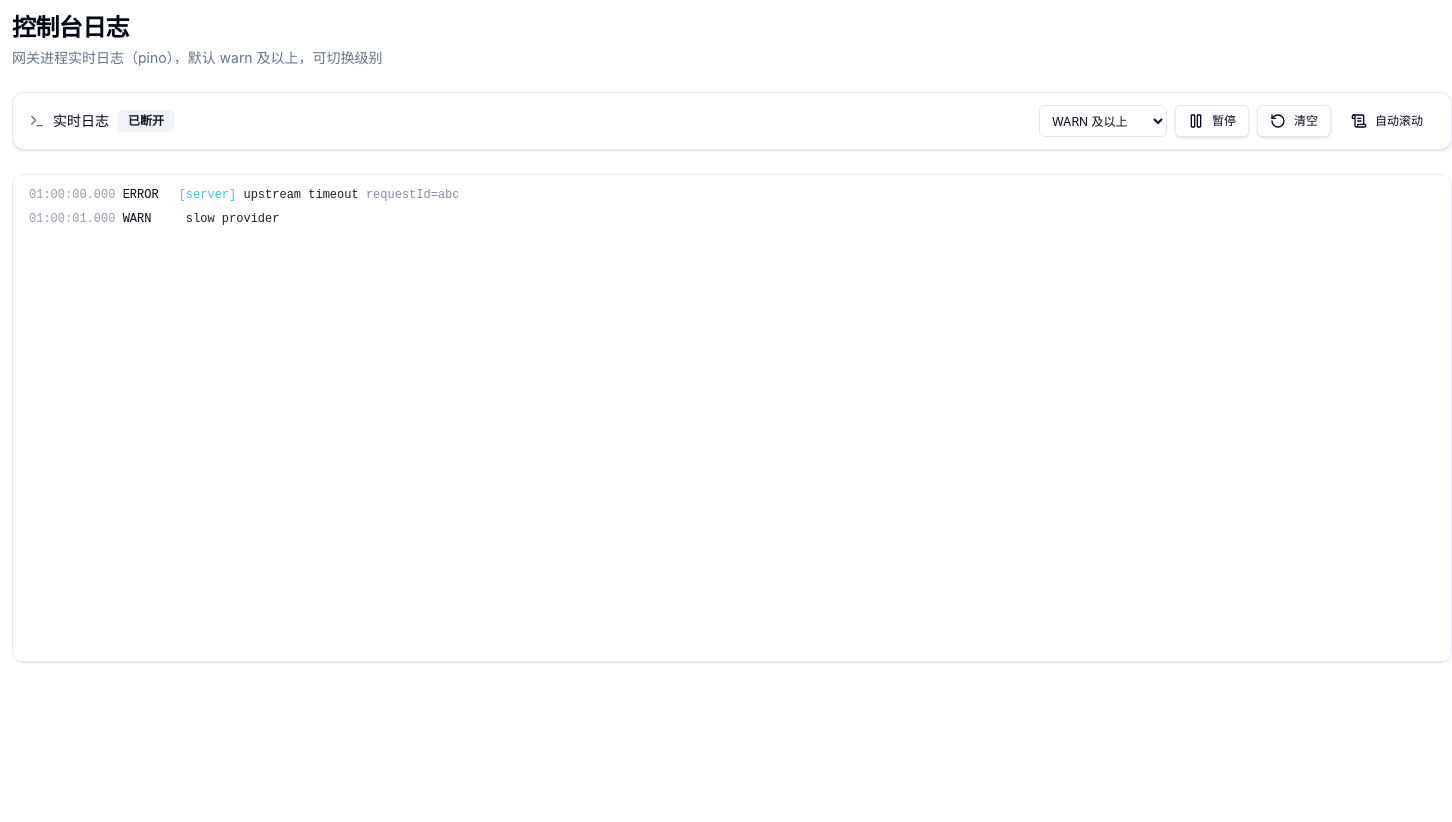
ConsoleLogsPage › pauses incoming entries when 暂停 clicked
Expected: the text "upstream timeout" is shown, [244,188,359,202]
Click the button "暂停" at (1212, 121), box [1175,105,1249,137]
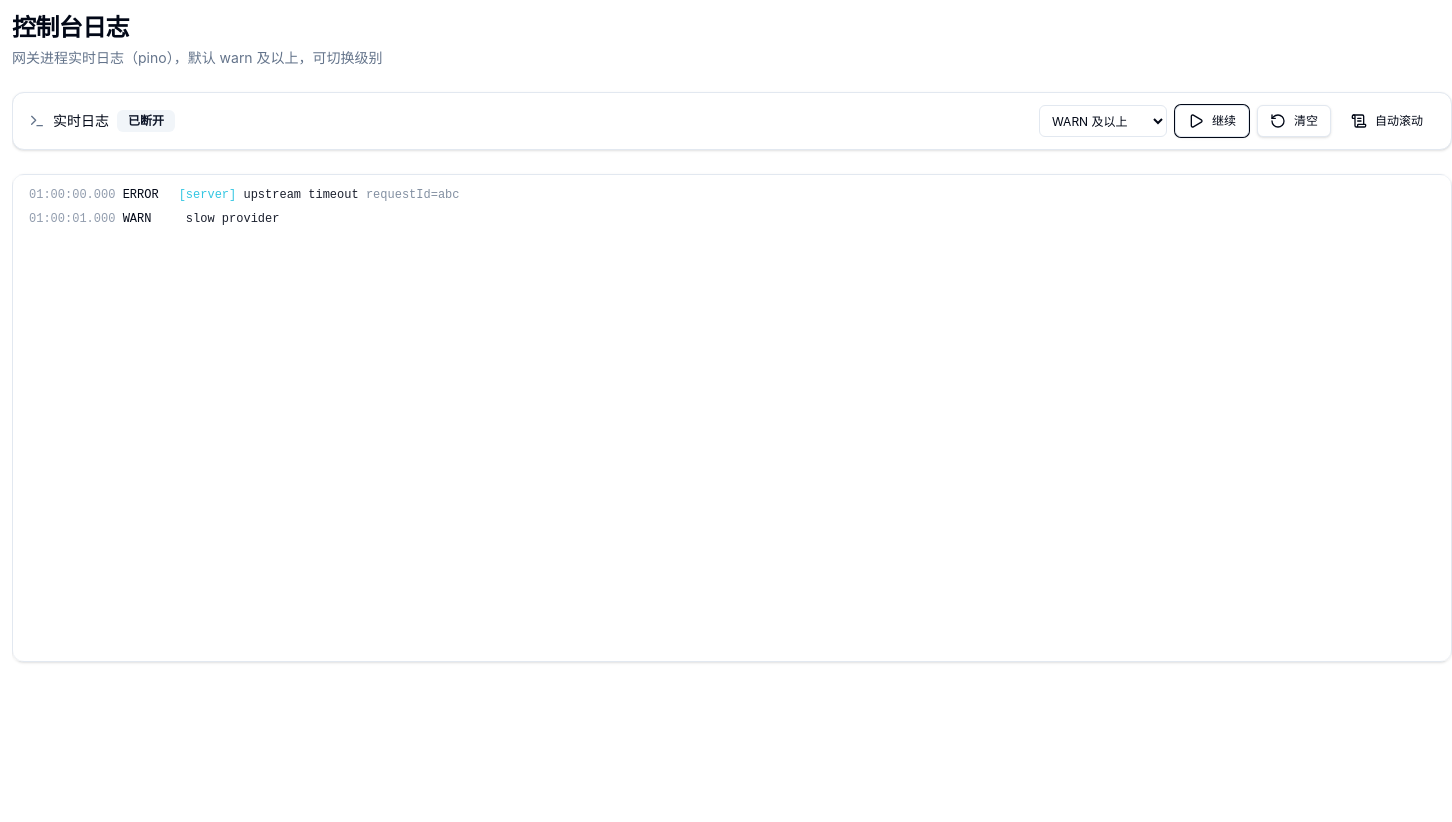
Now the button "继续" is shown, box [1175,105,1249,137]
